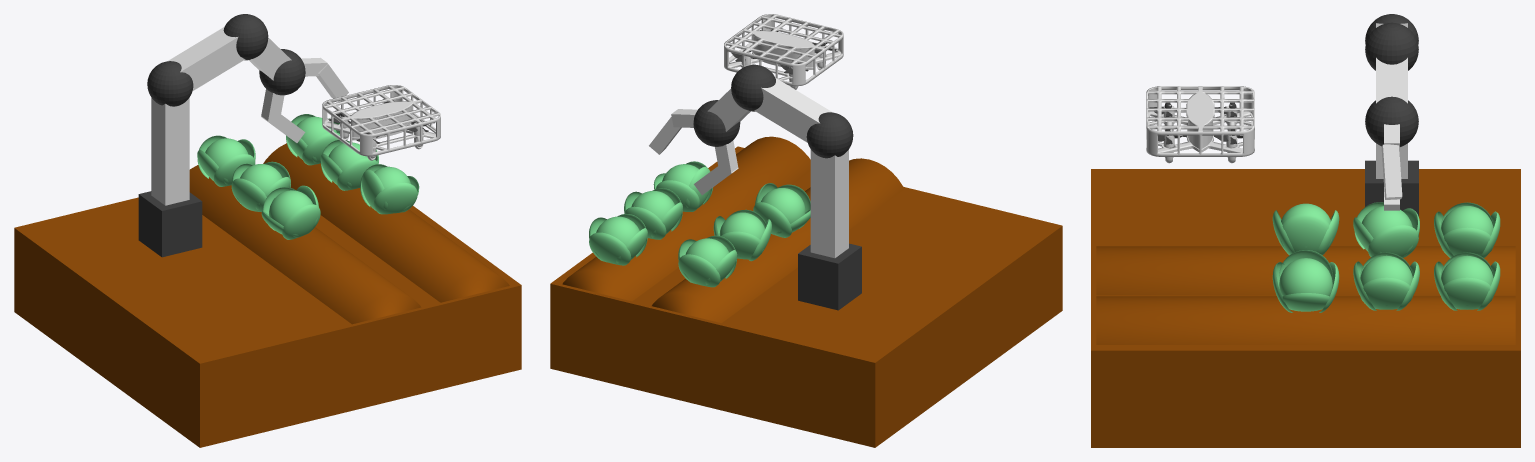
The model's file is prot.glb.
3 views of the same model, side by side, from view 1: azimuth 30°, elevation 25°; view 2: azimuth 150°, elevation 25°; view 3: azimuth 270°, elevation 25° (orthographic). The views are drawn at different scales.
Parts seen in each view (by area): view 1: dodai, morituti.001, morituti, telo, kikai ude, kikai dodai, kyabetu.002, kyabetu.005, kikai ude.001, kyabetu, kyabetu.001, kyabetu.004 (+7 smaller); view 2: dodai, morituti, morituti.001, telo, kikai ude, kikai dodai, kyabetu, kyabetu.003, kikai ude.001, kyabetu.002, kyabetu.004, kyabetu.001 (+8 smaller); view 3: dodai, morituti, morituti.001, telo, kyabetu.005, kyabetu.004, kyabetu.003, kyabetu.001, kyabetu, kyabetu.002, kikai kannsetu.001, kikai kannsetu.002 (+5 smaller).
Part boxes in pixels (<box>): dodai: <box>14,197,521,447</box>; morituti.001: <box>189,165,421,324</box>; morituti: <box>263,143,509,302</box>; telo: <box>322,85,440,160</box>; kikai ude: <box>151,97,189,205</box>; kikai dodai: <box>138,191,202,257</box>; kyabetu.002: <box>261,185,320,239</box>; kyabetu.005: <box>360,164,419,214</box>; kikai ude.001: <box>168,27,245,91</box>; kyabetu: <box>197,135,255,186</box>; kyabetu.001: <box>231,161,290,211</box>; kyabetu.004: <box>320,140,378,190</box>; dodai: <box>550,146,1062,447</box>; morituti: <box>562,136,810,301</box>; morituti.001: <box>652,158,904,322</box>; telo: <box>724,14,843,89</box>; kikai ude: <box>810,149,848,258</box>; kikai dodai: <box>798,243,861,310</box>; kyabetu: <box>678,235,737,287</box>; kyabetu.003: <box>589,214,647,265</box>; kikai ude.001: <box>754,77,832,142</box>; kyabetu.002: <box>753,183,810,237</box>; kyabetu.004: <box>624,188,682,239</box>; kyabetu.001: <box>713,209,771,261</box>; dodai: <box>1091,169,1520,447</box>; morituti: <box>1096,296,1515,344</box>; morituti.001: <box>1096,246,1515,295</box>; telo: <box>1146,86,1254,163</box>; kyabetu.005: <box>1272,250,1339,312</box>; kyabetu.004: <box>1353,252,1419,310</box>; kyabetu.003: <box>1434,252,1500,310</box>; kyabetu.001: <box>1353,202,1419,257</box>; kyabetu: <box>1434,202,1500,258</box>; kyabetu.002: <box>1272,203,1339,255</box>; kikai kannsetu.001: <box>1365,22,1418,70</box>; kikai kannsetu.002: <box>1365,96,1418,146</box>.
Size of the model in its own units: 0.8 by 0.698 by 0.8.
